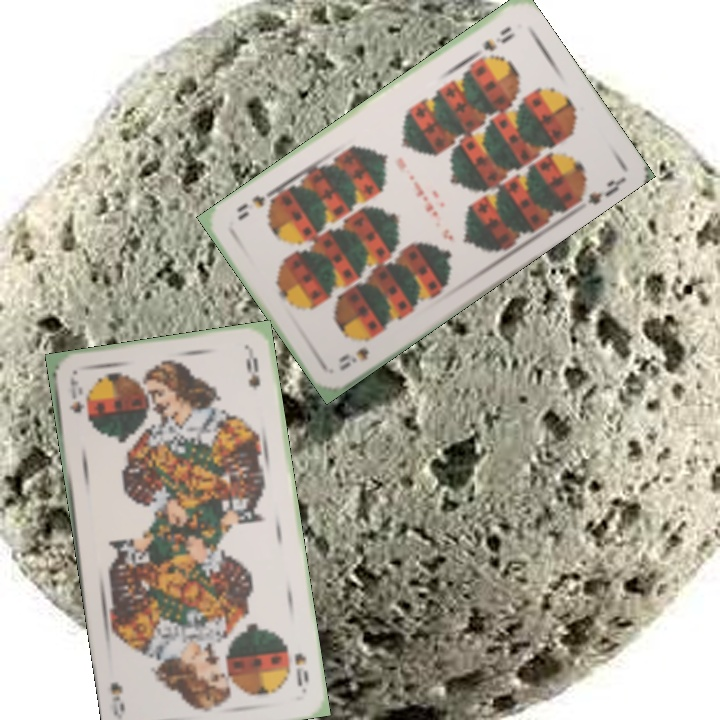S9: (479, 22, 517, 54), (335, 344, 372, 374)
SO: (290, 649, 311, 693), (65, 375, 87, 416)
